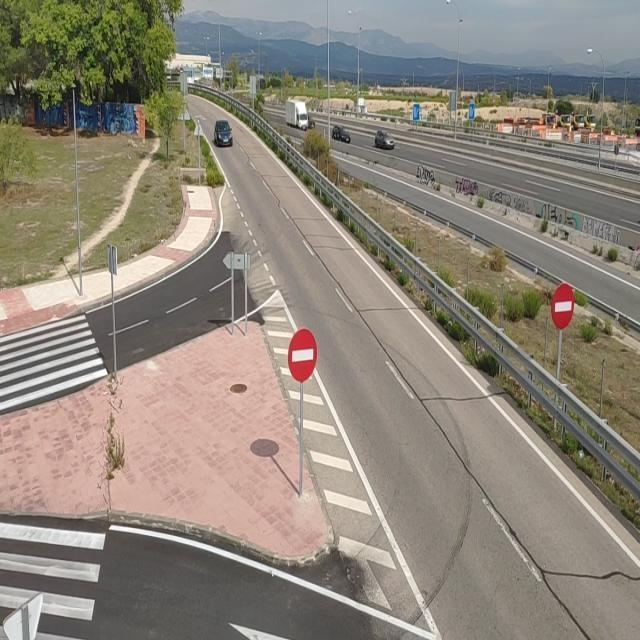Car: (214, 120, 233, 147), (374, 129, 395, 150), (332, 124, 350, 143), (308, 114, 315, 130)
Truck: (284, 99, 309, 131)
